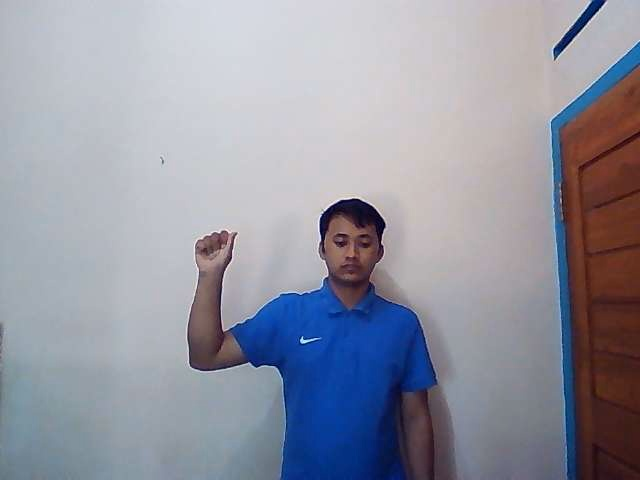A: (194, 230, 239, 275)
